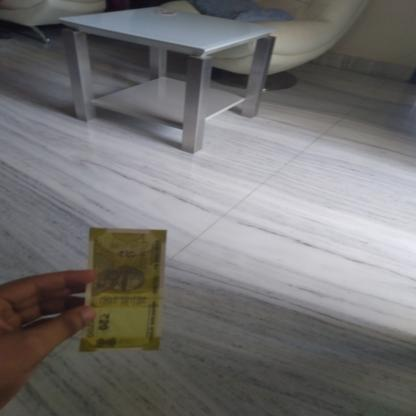New20Front: (88, 228, 162, 352)
